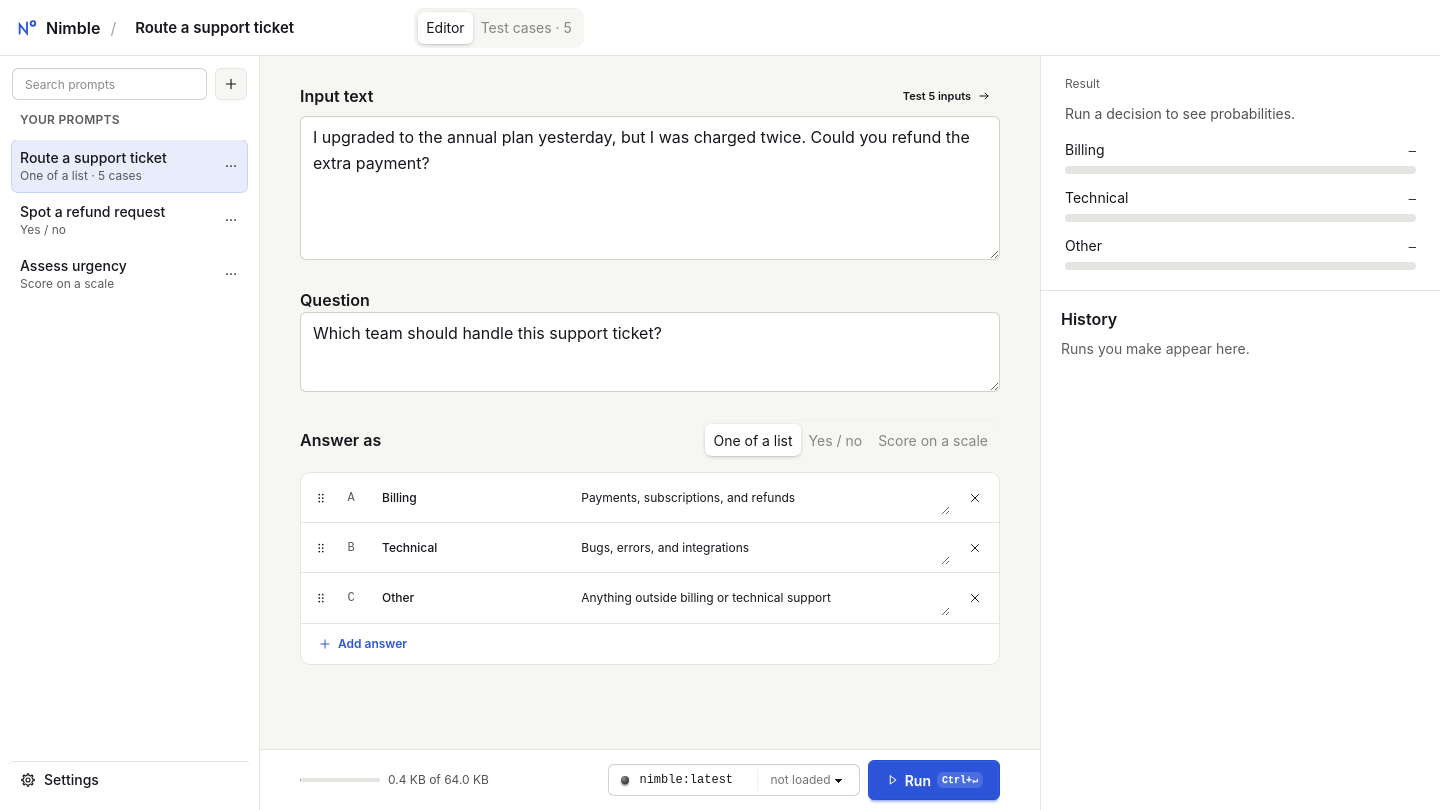
it: workspace workflows › runs every test case and summarizes matches against expected answers
Click the link "Test 5 inputs" at coordinates (947, 96), box [894,84,1000,108]
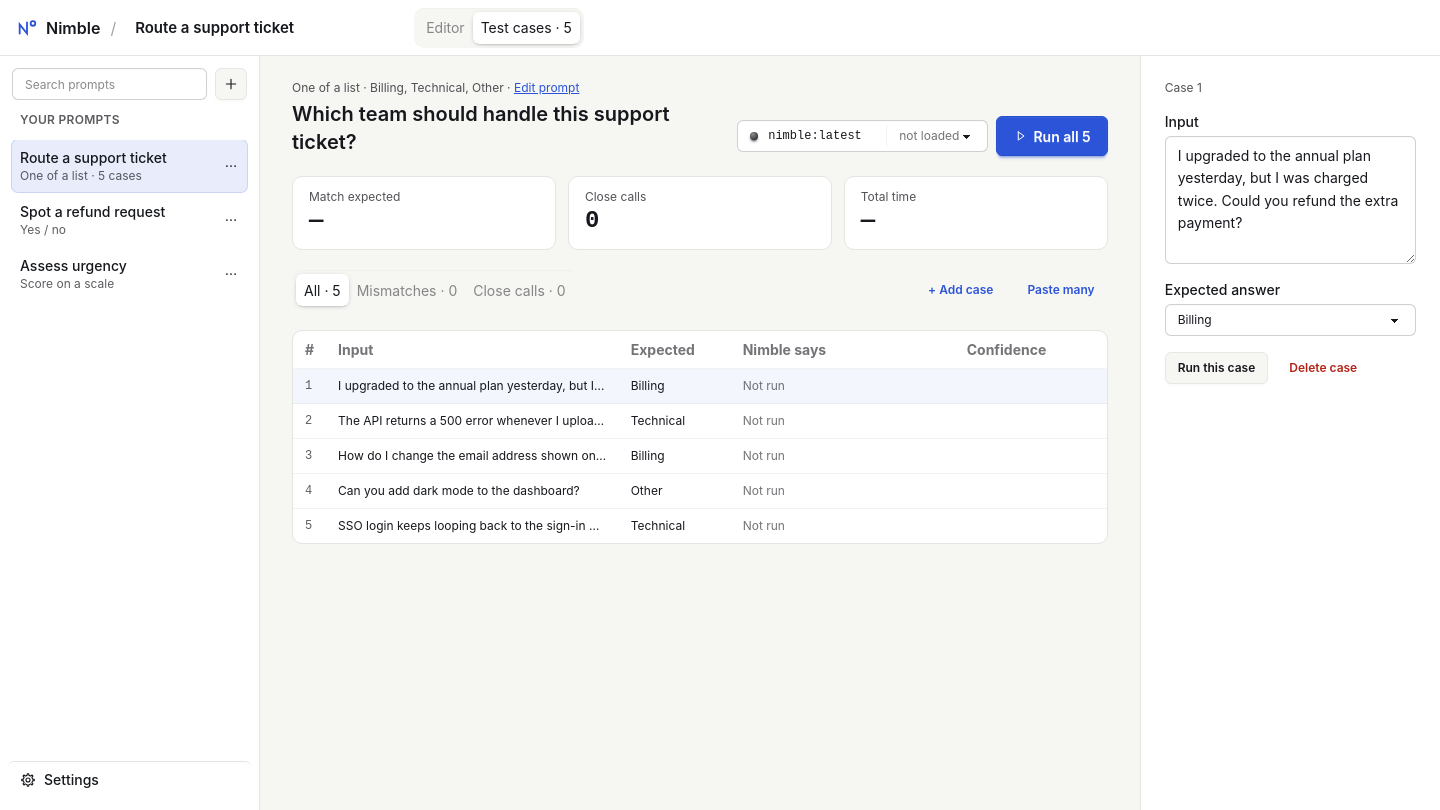
Click the button "Run all 5" at coordinates (1052, 136), box [996,116,1108,156]
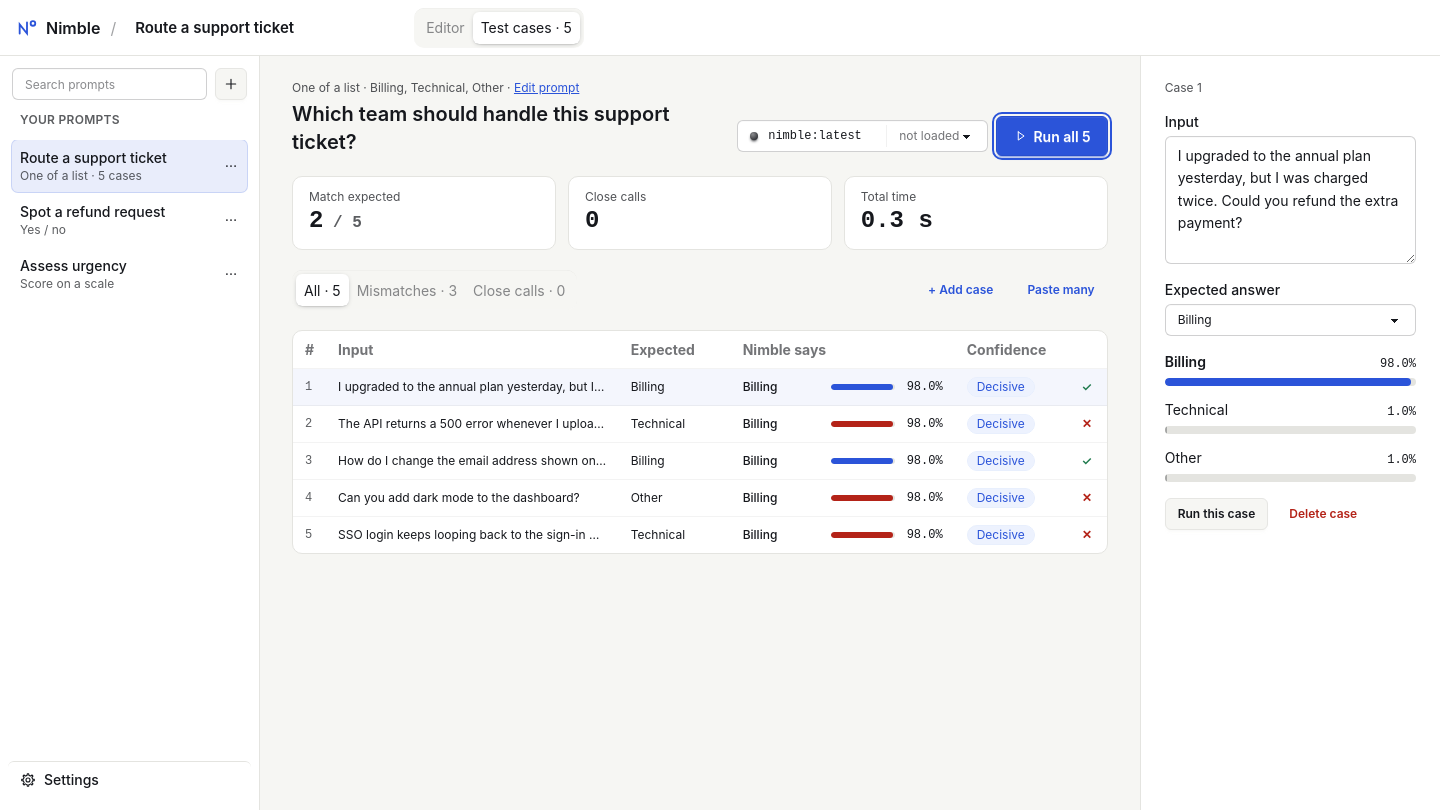
Check: the radio button named "Mismatches · 3" is shown, box [349,274,465,306]
